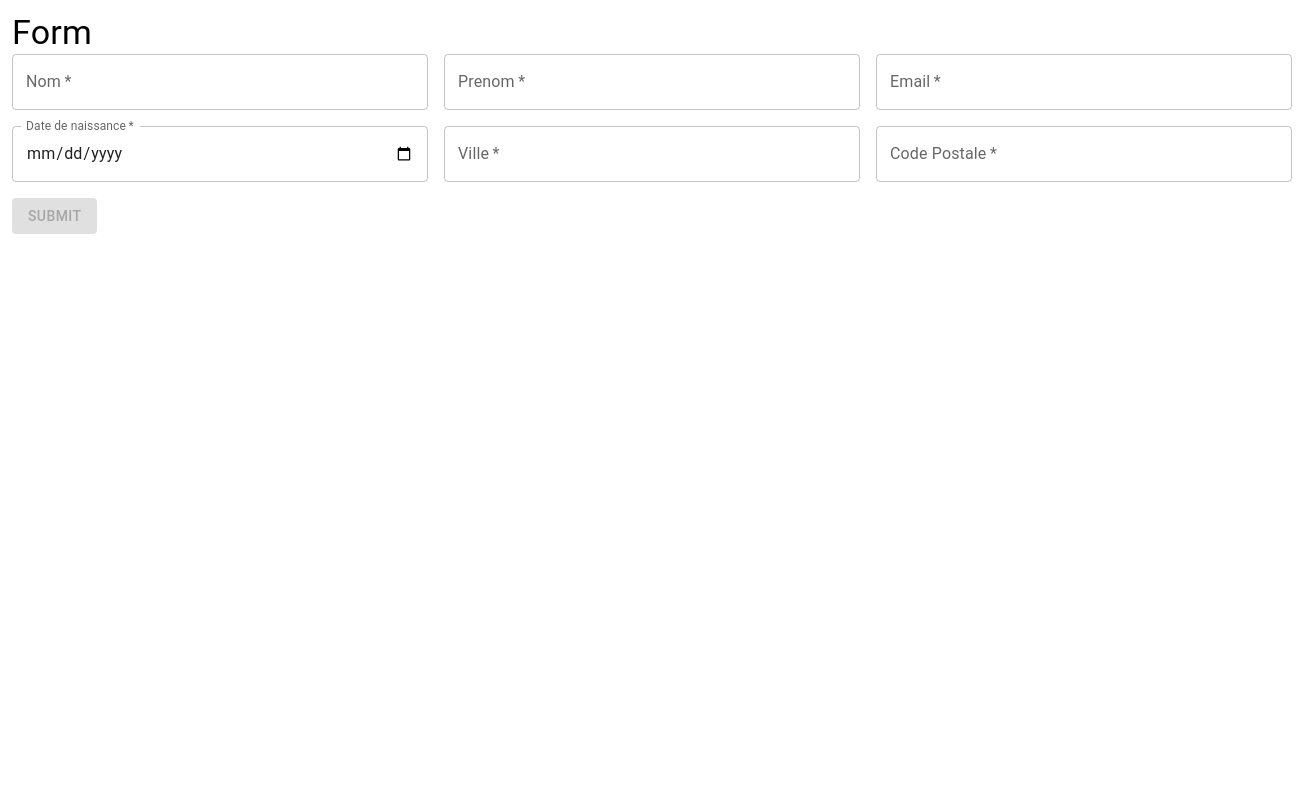
Test case: Form coverage tests › affiche le helperText d'erreur sur le champ email si email invalide
The image size is (1304, 812).
In the field labelled "Nom *": (220, 82) x1=12 y1=54 x2=428 y2=110, type "Jean"
In the field labelled "Prenom *": (652, 82) x1=444 y1=54 x2=860 y2=110, type "Dupont"
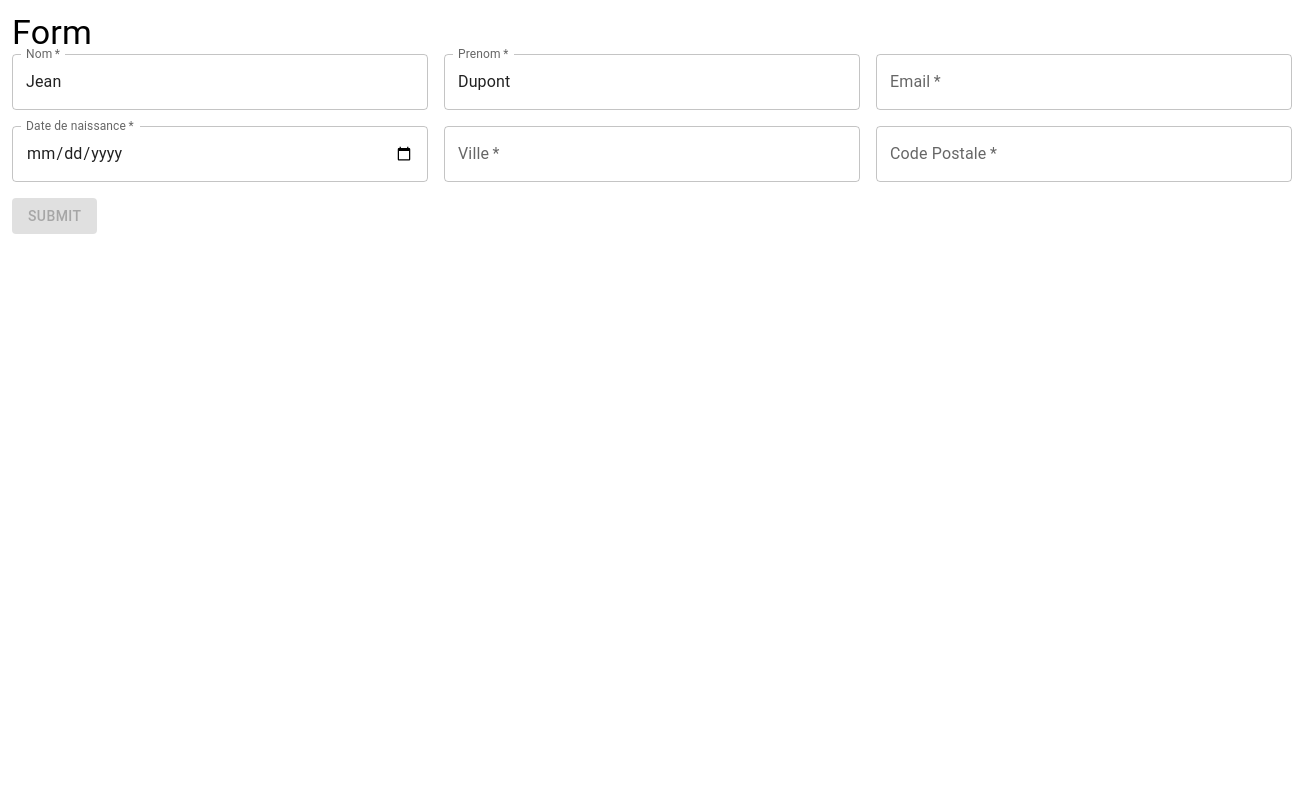
In the field labelled "Email *": (1084, 82) x1=876 y1=54 x2=1292 y2=110, type "notanemail"
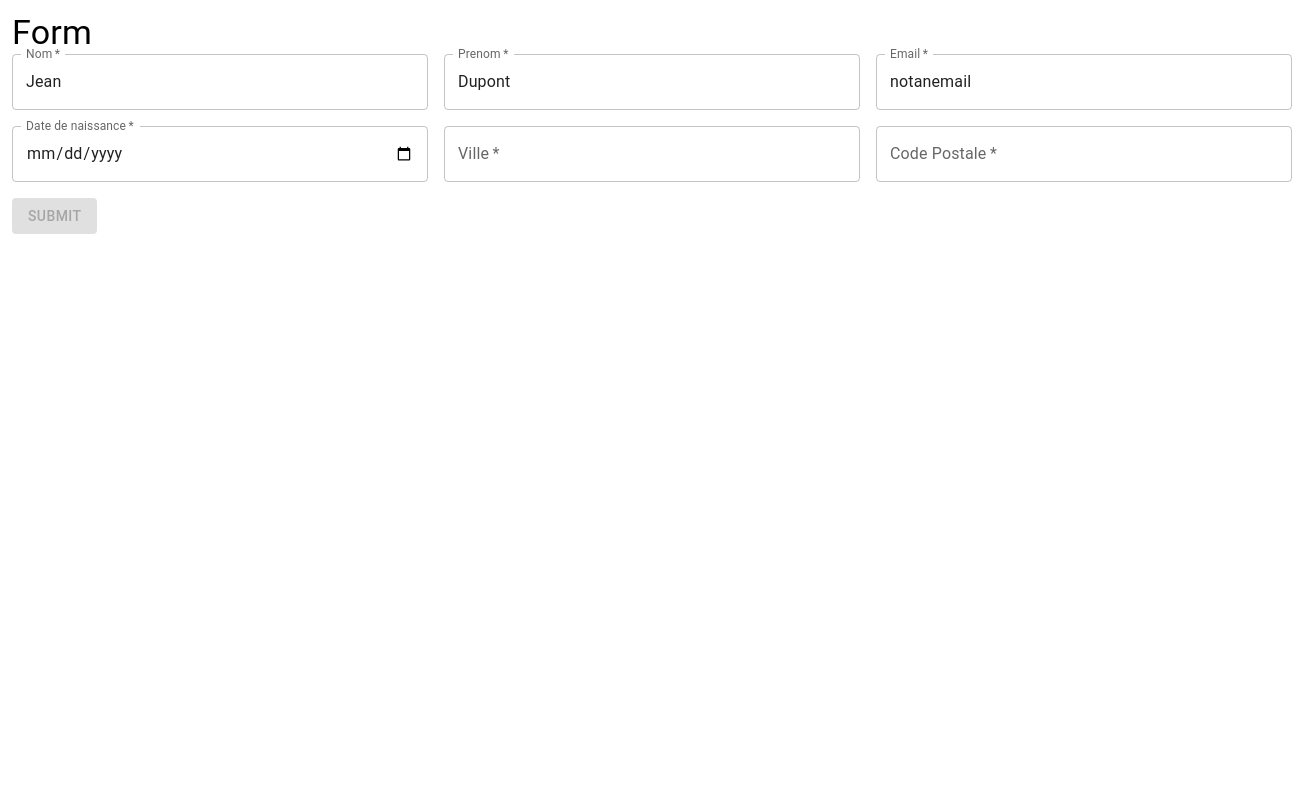
In the date field labelled "Date de naissance *": (220, 154) x1=12 y1=126 x2=428 y2=182, type "2000-01-01"
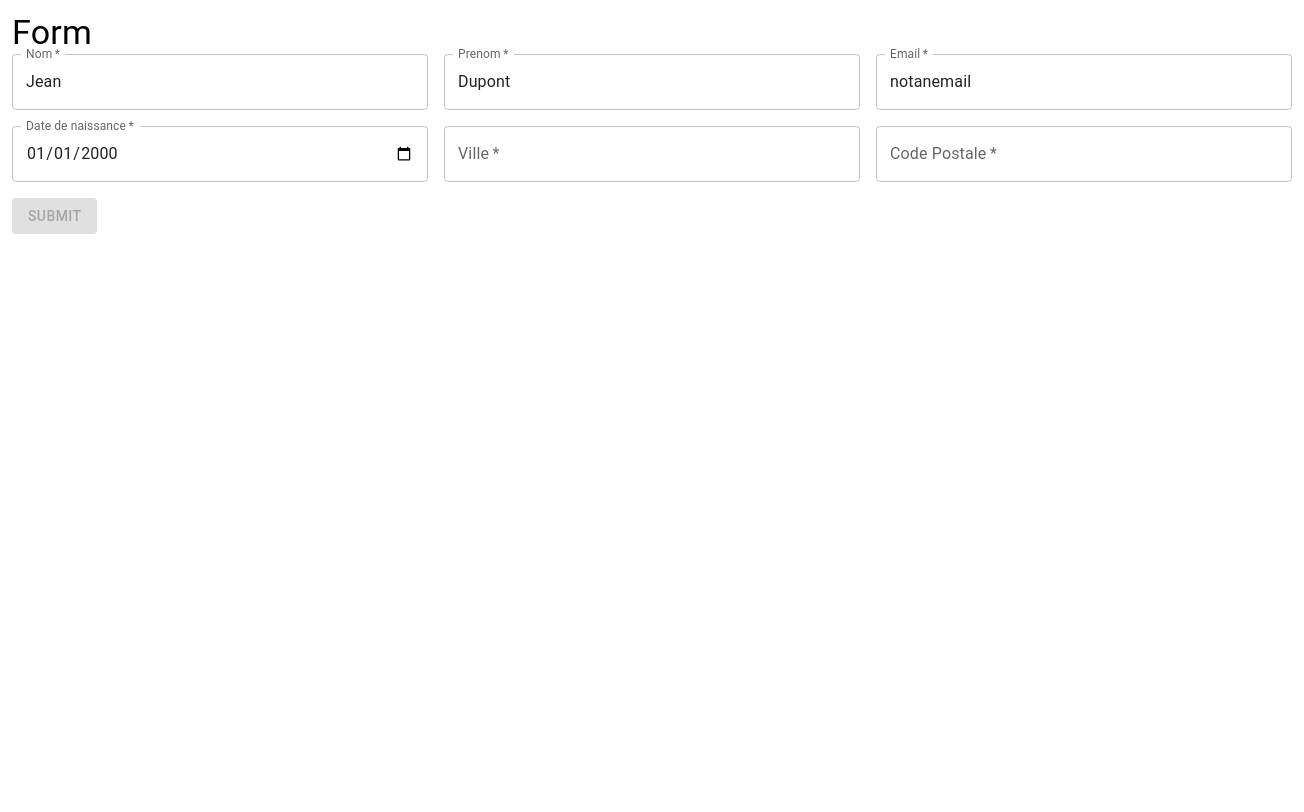
In the field labelled "Ville *": (652, 154) x1=444 y1=126 x2=860 y2=182, type "Paris"
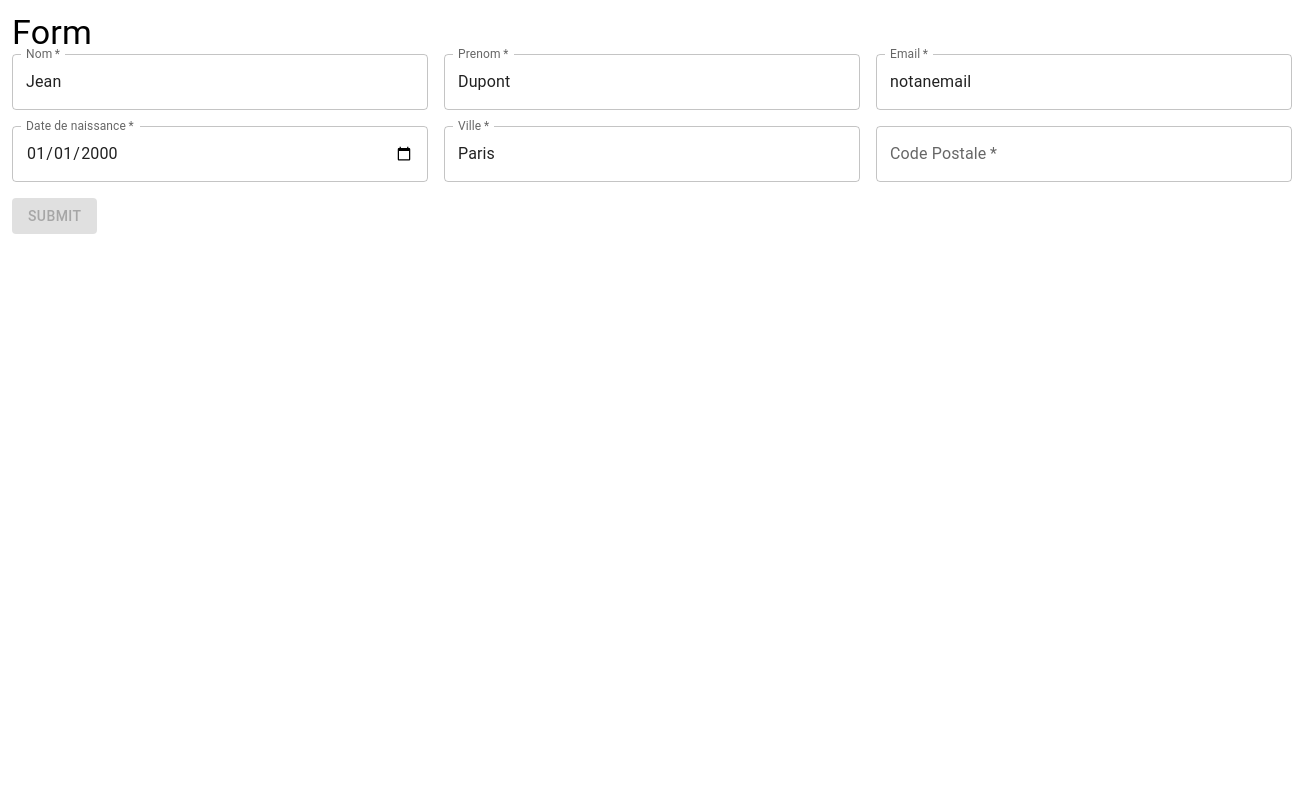
In the field labelled "Code Postale *": (1084, 154) x1=876 y1=126 x2=1292 y2=182, type "75000"
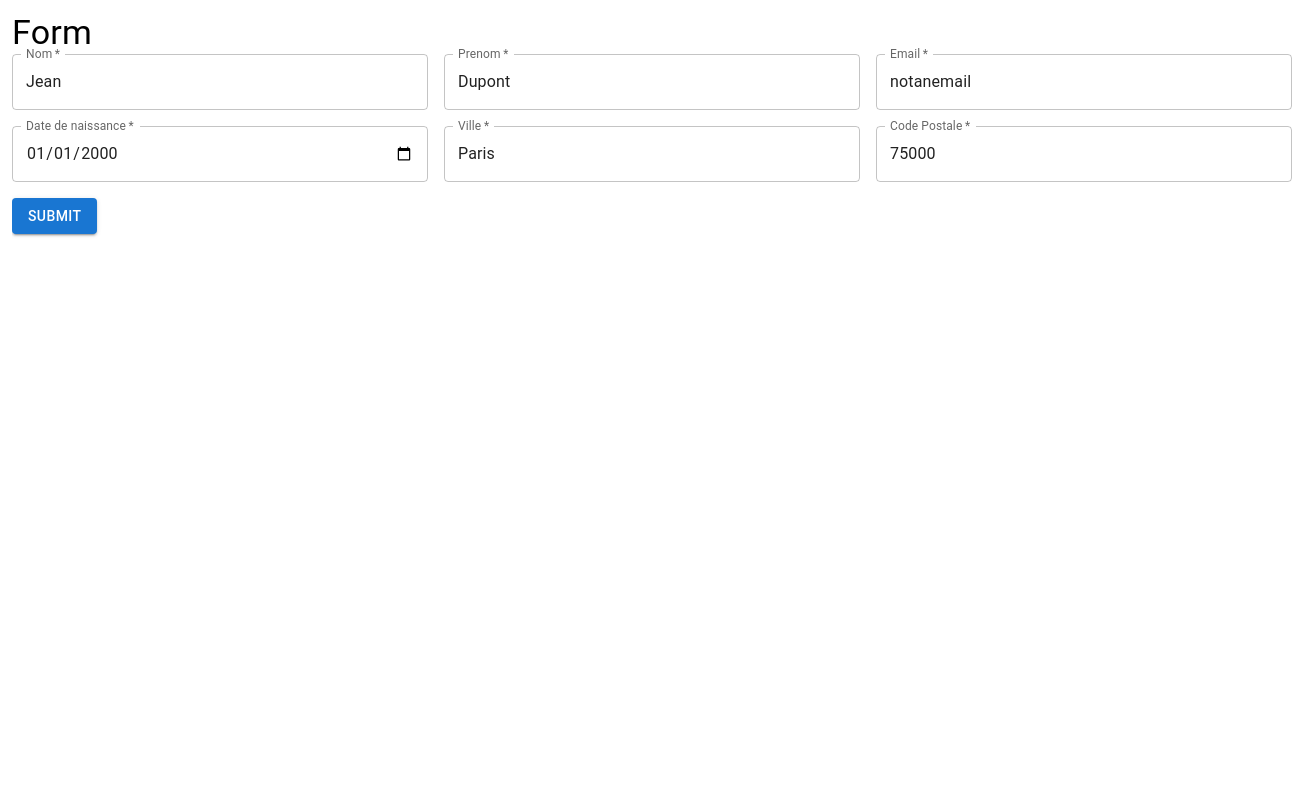
Click the button "Submit": (55, 216) x1=12 y1=198 x2=97 y2=234
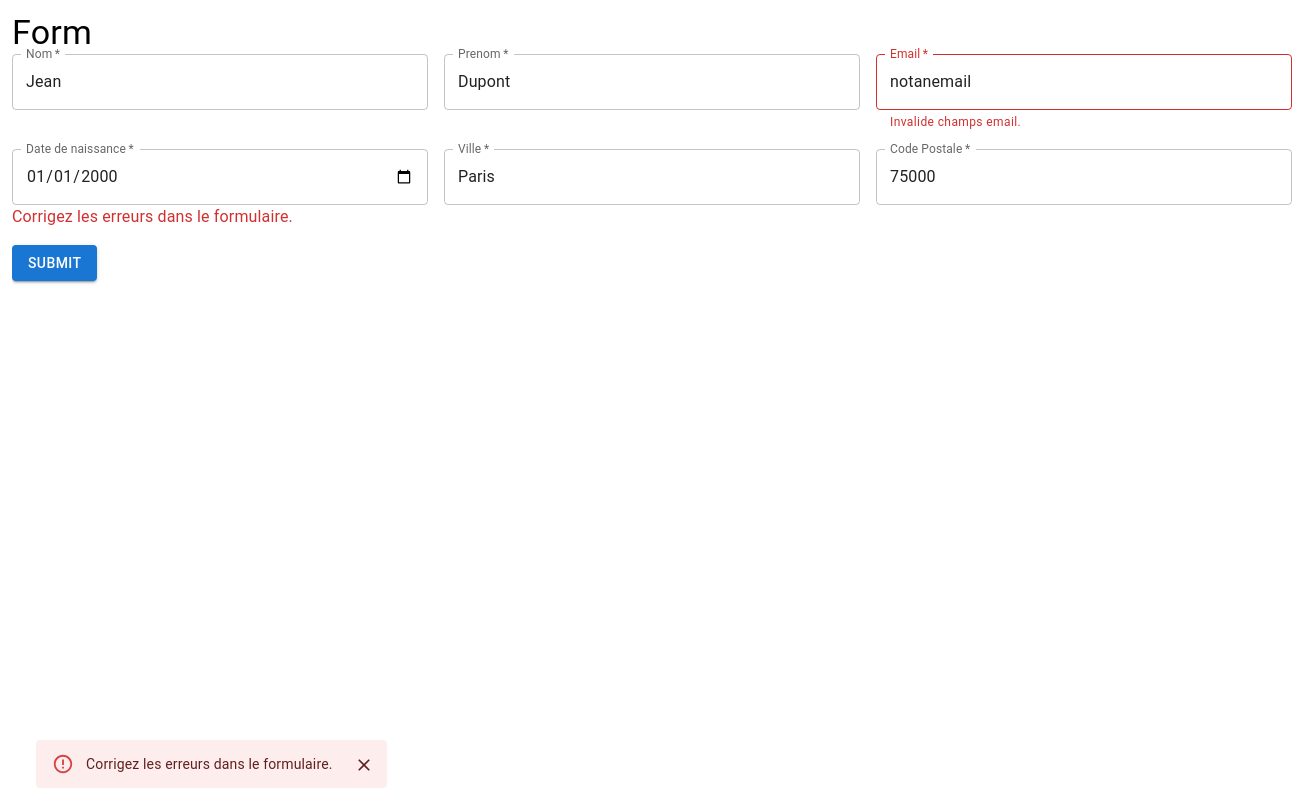
Expected: the text "Invalide champs email." is shown, x1=890 y1=115 x2=1021 y2=129
